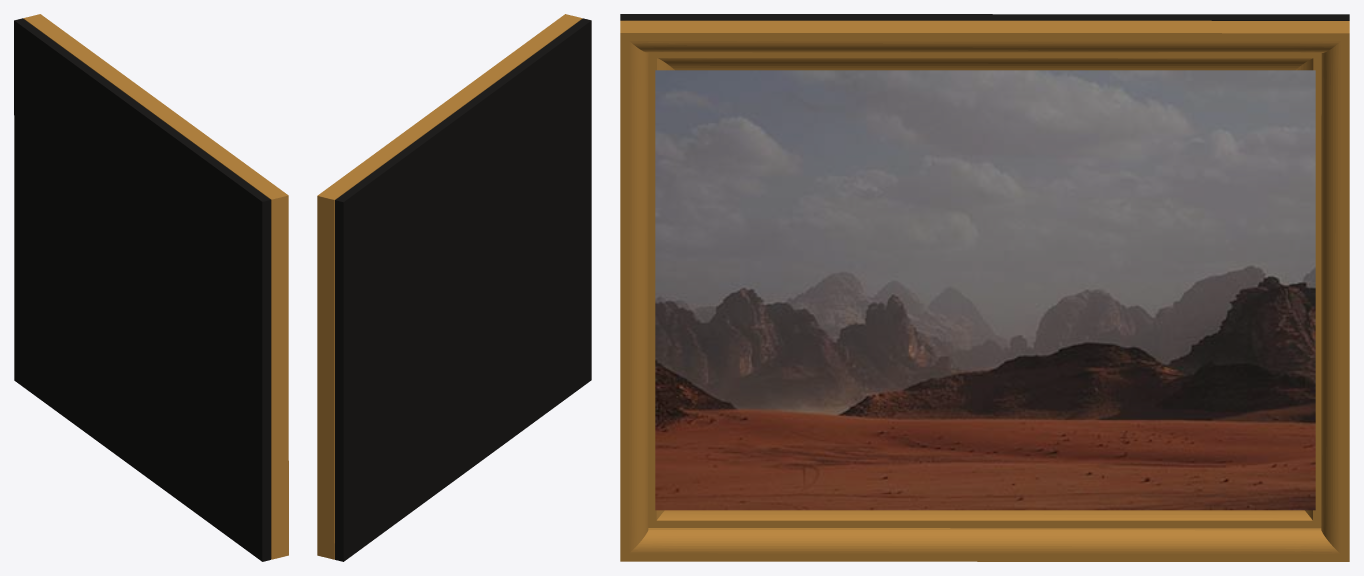
3 views of the same model, side by side, from view 1: azimuth 30°, elevation 25°; view 2: azimuth 150°, elevation 25°; view 3: azimuth 270°, elevation 25° (orthographic). The views are drawn at different scales.
Visible parts, largest first — view 1: frame.001_3.001, back panel.001_2.001; view 2: frame.001_3.001, back panel.001_2.001; view 3: frame.001_3.001, back panel.001_2.001.
Part boxes in pixels (<box>): frame.001_3.001: <box>14,18,270,561</box>; back panel.001_2.001: <box>23,14,288,559</box>; frame.001_3.001: <box>335,18,591,561</box>; back panel.001_2.001: <box>317,14,582,559</box>; frame.001_3.001: <box>620,14,1349,510</box>; back panel.001_2.001: <box>620,20,1349,561</box>.
Size of the model in its own units: 1.05 by 13.7 by 17.12.
3 materials, 1 textured.
